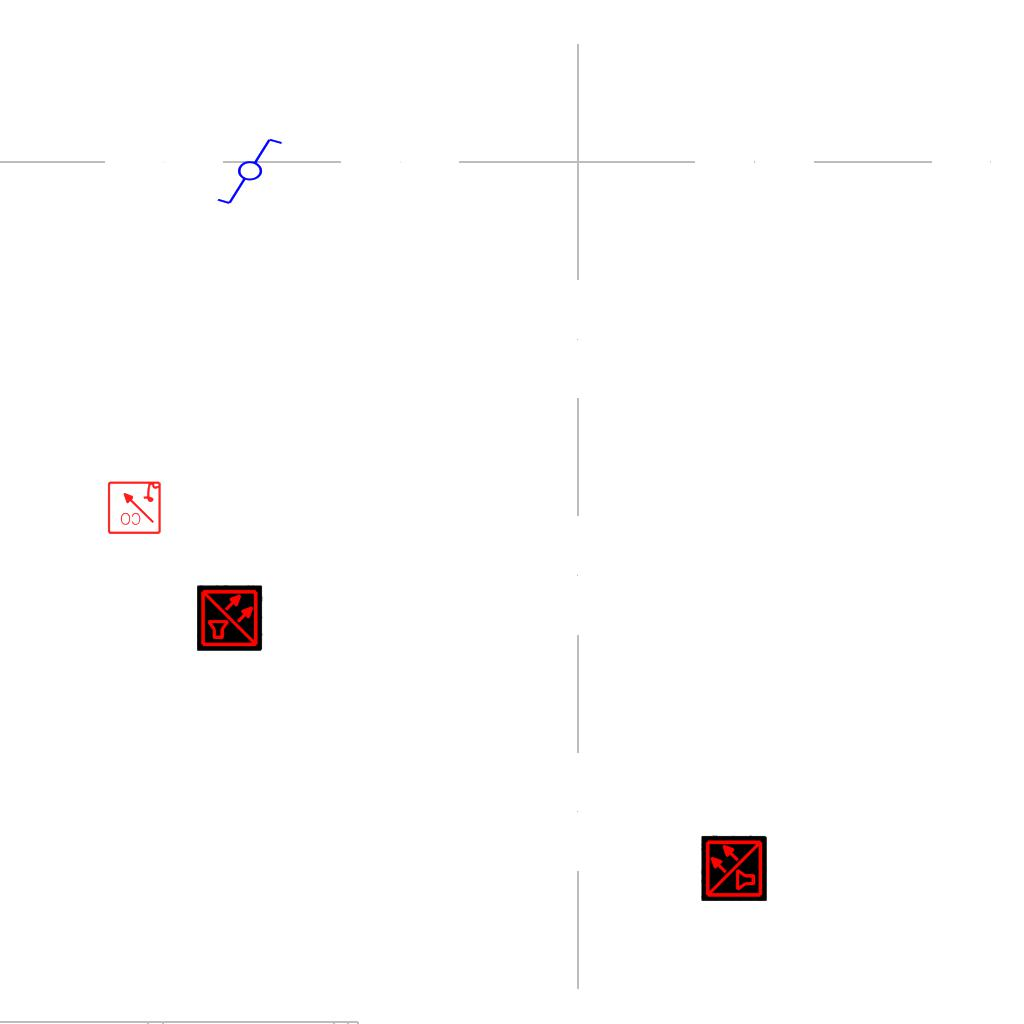OKW_Multisensormelder_(Kombination_optischer_Rauch-Kahlenmonoxid_Waerme-Melder): (197, 585, 263, 651), (701, 835, 767, 901)
ROA_Rauchmelder_optisch_mit_Signalgeber_(Sockelsirene): (106, 479, 162, 535)
Wechselschalter: (215, 136, 293, 208)
